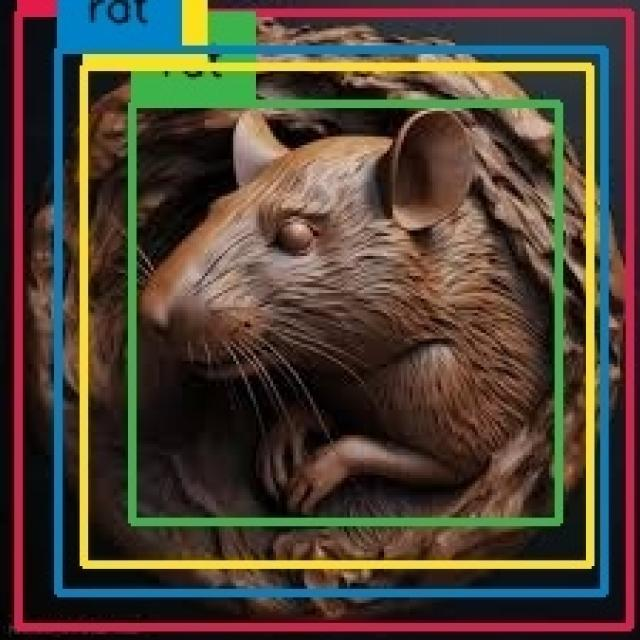rat: (20, 11, 631, 626), (58, 48, 604, 592), (84, 67, 590, 564), (132, 105, 559, 521)
